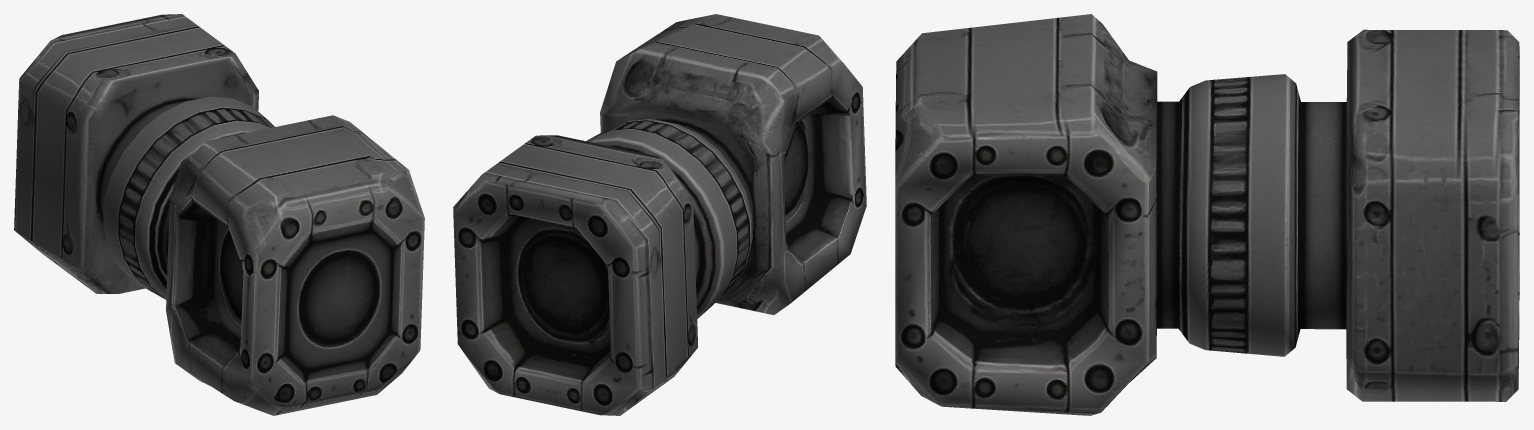
Rendered from cold-iron-v2-joint-a-hinge.glb.
The picture shows the model from 3 angles, left to right: view 1: azimuth 30°, elevation 25°; view 2: azimuth 150°, elevation 25°; view 3: azimuth 270°, elevation 25°; orthographic projection. The views are drawn at different scales.
Parts seen in each view (by area): view 1: tripo_node_88d3002d-4e4c-481f-a590-0943da1d0ddd; view 2: tripo_node_88d3002d-4e4c-481f-a590-0943da1d0ddd; view 3: tripo_node_88d3002d-4e4c-481f-a590-0943da1d0ddd.
Part boxes in pixels (x1=…): tripo_node_88d3002d-4e4c-481f-a590-0943da1d0ddd: x1=14, y1=14, x2=424, y2=415; tripo_node_88d3002d-4e4c-481f-a590-0943da1d0ddd: x1=453, y1=14, x2=866, y2=415; tripo_node_88d3002d-4e4c-481f-a590-0943da1d0ddd: x1=895, y1=14, x2=1519, y2=415.
Size of the model in its own units: 0.4978 by 0.5752 by 1.
Materials: 1 (1 with a texture image).
